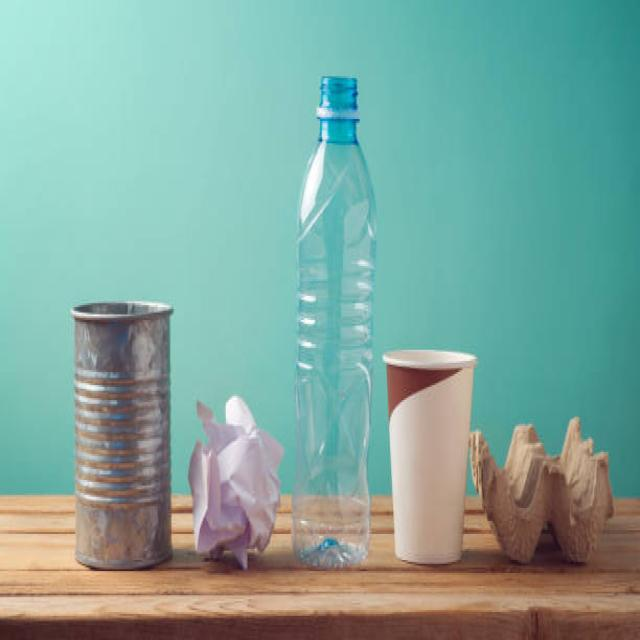cardboard: (386, 344, 637, 564)
metal: (69, 292, 179, 573)
paper: (190, 391, 280, 564)
plastic: (294, 41, 381, 579)
